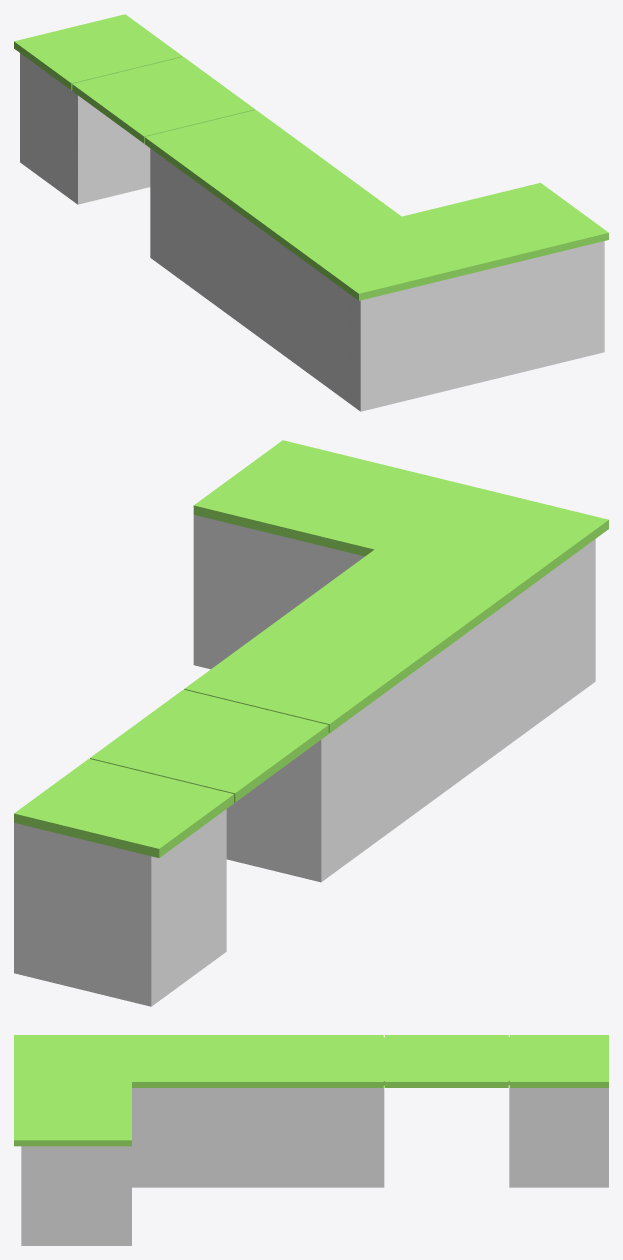
The model's file is [NEW] desk_model.fbx.
The picture shows the model from 3 angles, top to bottom: view 1: azimuth 30°, elevation 25°; view 2: azimuth 150°, elevation 25°; view 3: azimuth 270°, elevation 25°; orthographic projection. The views are drawn at different scales.
Parts seen in each view (by area): view 1: Cube; view 2: Cube; view 3: Cube.
Boxes of the visible parts, box(x1,y1,x2,y2) form: Cube: box(14, 14, 608, 411); Cube: box(14, 440, 608, 1006); Cube: box(14, 1035, 608, 1245).
Bounding box in the file's own units: 3544 × 1659 × 8464.
